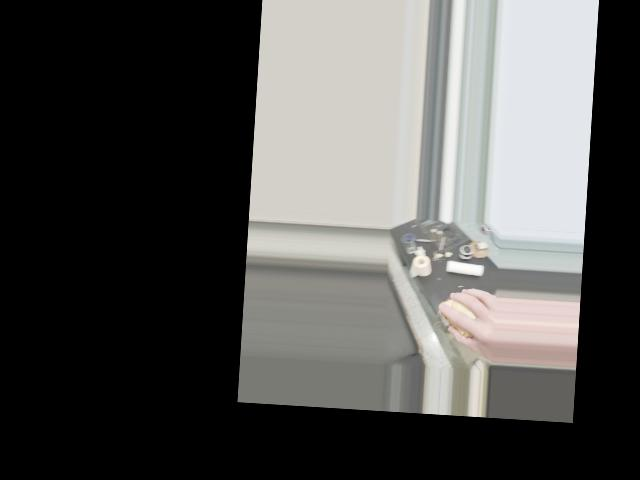onion: (438, 295, 485, 339)
